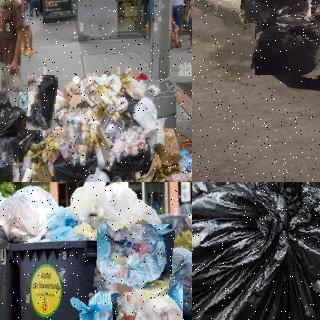Garbage: (192, 182, 320, 320), (95, 222, 174, 293), (69, 182, 159, 231), (253, 18, 320, 77), (0, 182, 58, 239), (111, 280, 184, 320), (163, 244, 192, 320), (66, 285, 122, 320), (239, 0, 312, 24), (27, 75, 57, 131), (0, 90, 27, 140), (0, 129, 20, 182), (301, 4, 320, 34)
